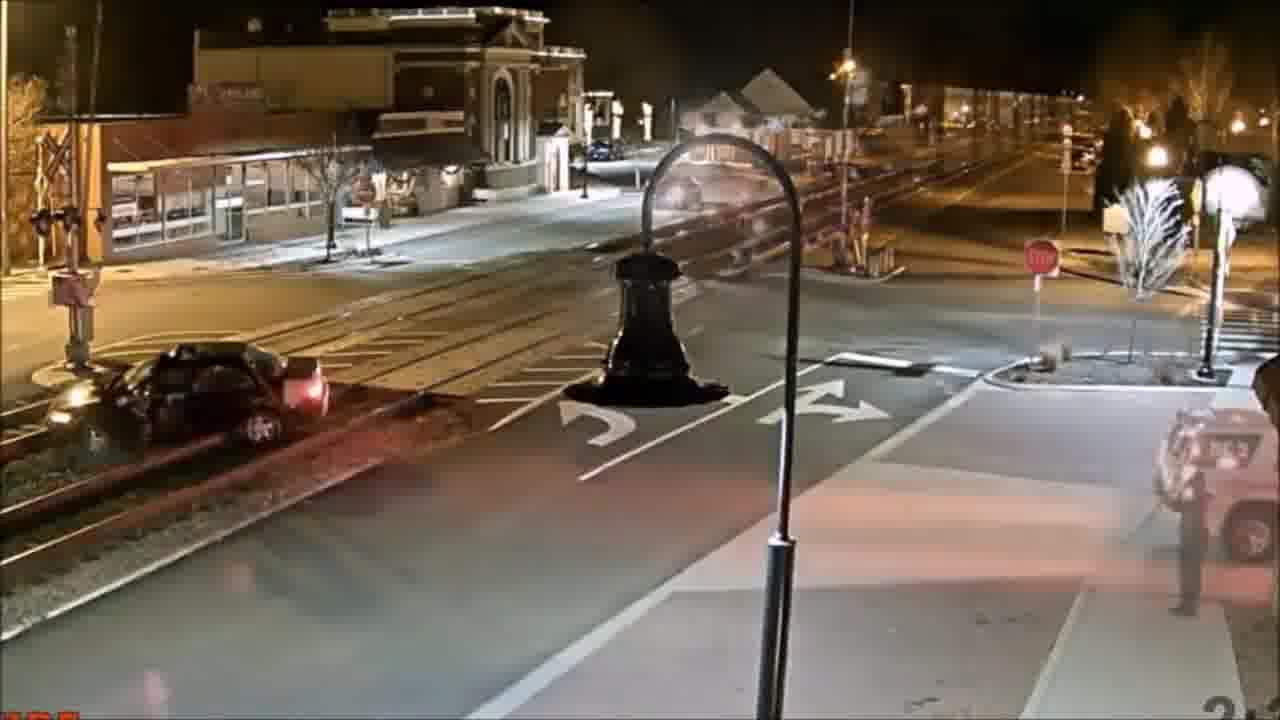crossing railway track: (40, 329, 324, 474)
